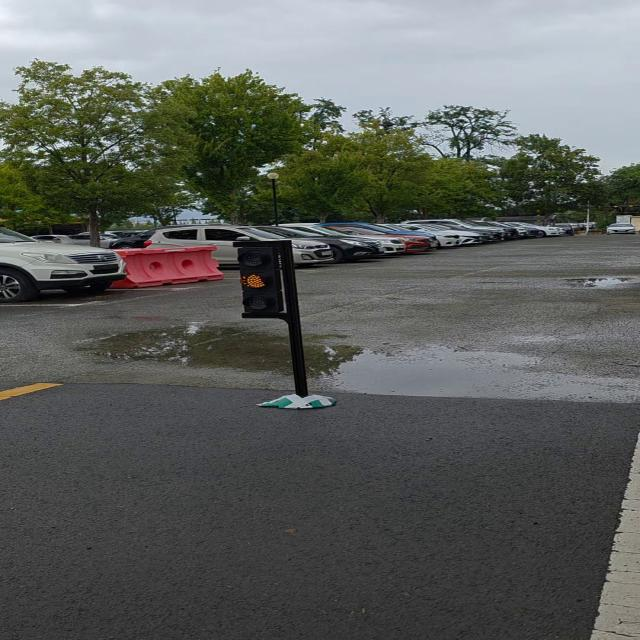yellow: (240, 243, 295, 319)
